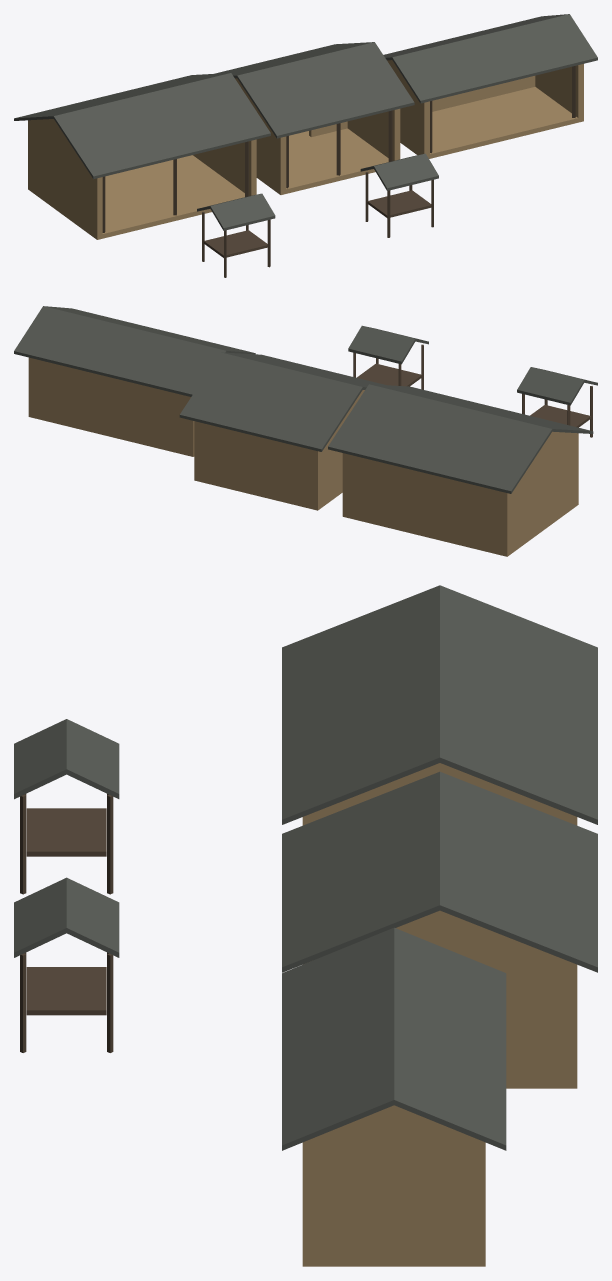
The picture shows the model from 3 angles, top to bottom: view 1: azimuth 30°, elevation 25°; view 2: azimuth 150°, elevation 25°; view 3: azimuth 270°, elevation 25°; orthographic projection. The views are drawn at different scales.
Parts seen in each view (by area): view 1: assembled__LY_P01_tile__FLAT, assembled__LY_P01_earth__FLAT, assembled__LY_P01_timber__FLAT; view 2: assembled__LY_P01_tile__FLAT, assembled__LY_P01_earth__FLAT, assembled__LY_P01_timber__FLAT; view 3: assembled__LY_P01_tile__FLAT, assembled__LY_P01_earth__FLAT, assembled__LY_P01_timber__FLAT.
Boxes of the visible parts, box(x1,y1,x2,y2) form: assembled__LY_P01_tile__FLAT: box(14, 14, 597, 230); assembled__LY_P01_earth__FLAT: box(28, 60, 583, 239); assembled__LY_P01_timber__FLAT: box(102, 66, 575, 277); assembled__LY_P01_tile__FLAT: box(14, 306, 597, 493); assembled__LY_P01_earth__FLAT: box(28, 357, 578, 556); assembled__LY_P01_timber__FLAT: box(353, 344, 592, 437); assembled__LY_P01_tile__FLAT: box(14, 585, 597, 1150); assembled__LY_P01_earth__FLAT: box(302, 763, 577, 1266); assembled__LY_P01_timber__FLAT: box(20, 794, 113, 1052).
Bounding box in the file's own units: 25.3 × 4.83 × 12.75.
